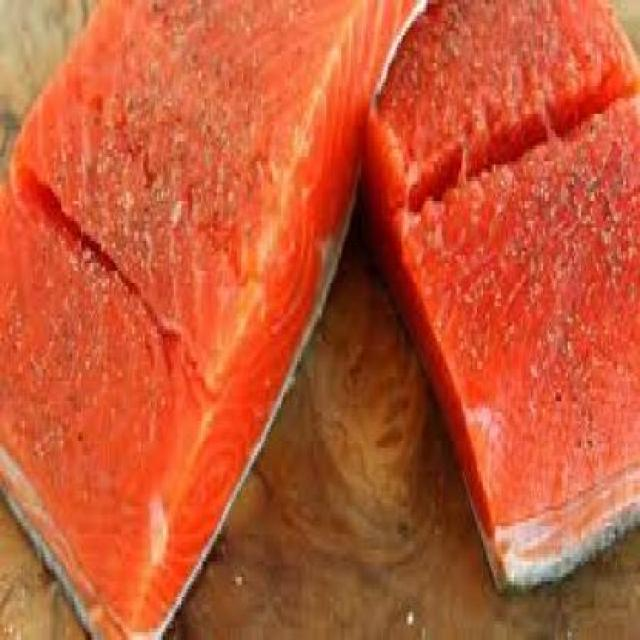salmon: (3, 8, 451, 632), (346, 4, 639, 594)
